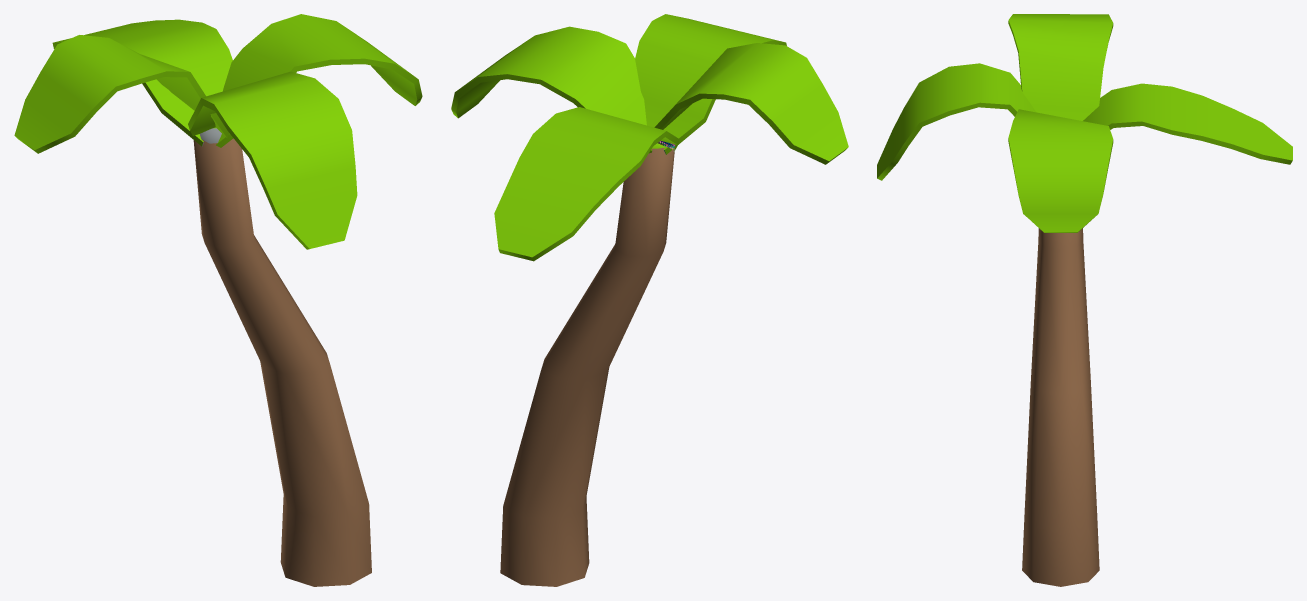
The model's file is coco.fbx.
3 renders of one model, left to right at view 1: azimuth 30°, elevation 25°; view 2: azimuth 150°, elevation 25°; view 3: azimuth 270°, elevation 25°, orthographic. The views are drawn at different scales.
Visible parts, largest first — view 1: coconut; view 2: coconut; view 3: coconut.
Boxes of the visible parts, x1,y1,x2,y2 form: coconut: (14, 14, 422, 586); coconut: (451, 14, 848, 586); coconut: (877, 14, 1292, 586).
Bounding box in the file's own units: 206 × 289 × 235.
